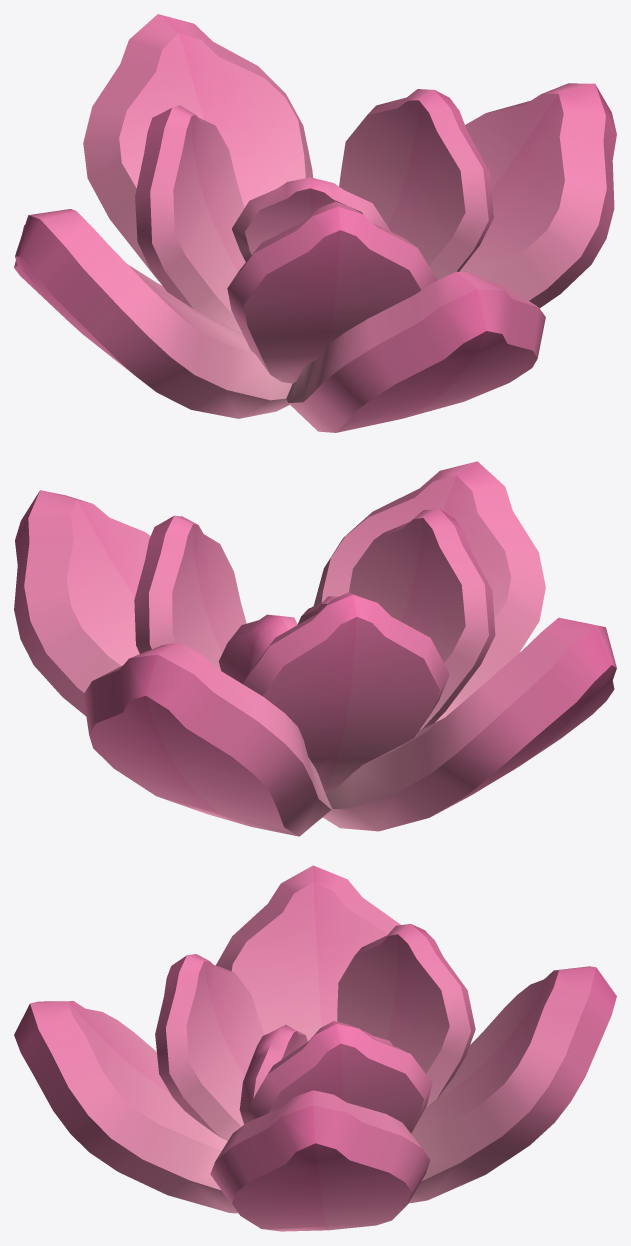
File: succulent.glb
The picture shows the model from 3 angles, top to bottom: view 1: azimuth 30°, elevation 25°; view 2: azimuth 150°, elevation 25°; view 3: azimuth 270°, elevation 25°; orthographic projection. The views are drawn at different scales.
Parts seen in each view (by area): view 1: succulent_B; view 2: succulent_B; view 3: succulent_B.
Boxes of the visible parts, x1,y1,x2,y2 form: succulent_B: (14, 14, 616, 432); succulent_B: (14, 461, 616, 836); succulent_B: (14, 865, 616, 1231).
Size of the model in its own units: 0.5951 by 0.2642 by 0.5937.
Materials: 1 (1 with a texture image).
